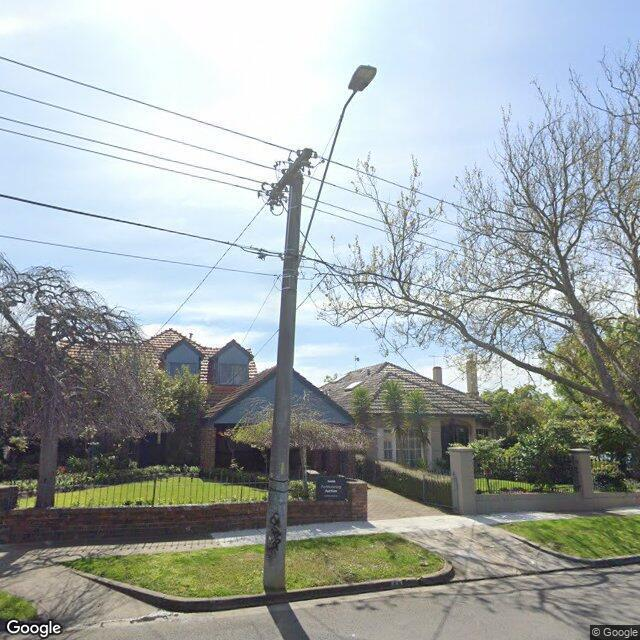crossarm: (270, 149, 312, 200)
streetlight: (295, 65, 377, 268)
timber-pole: (263, 162, 302, 591)
